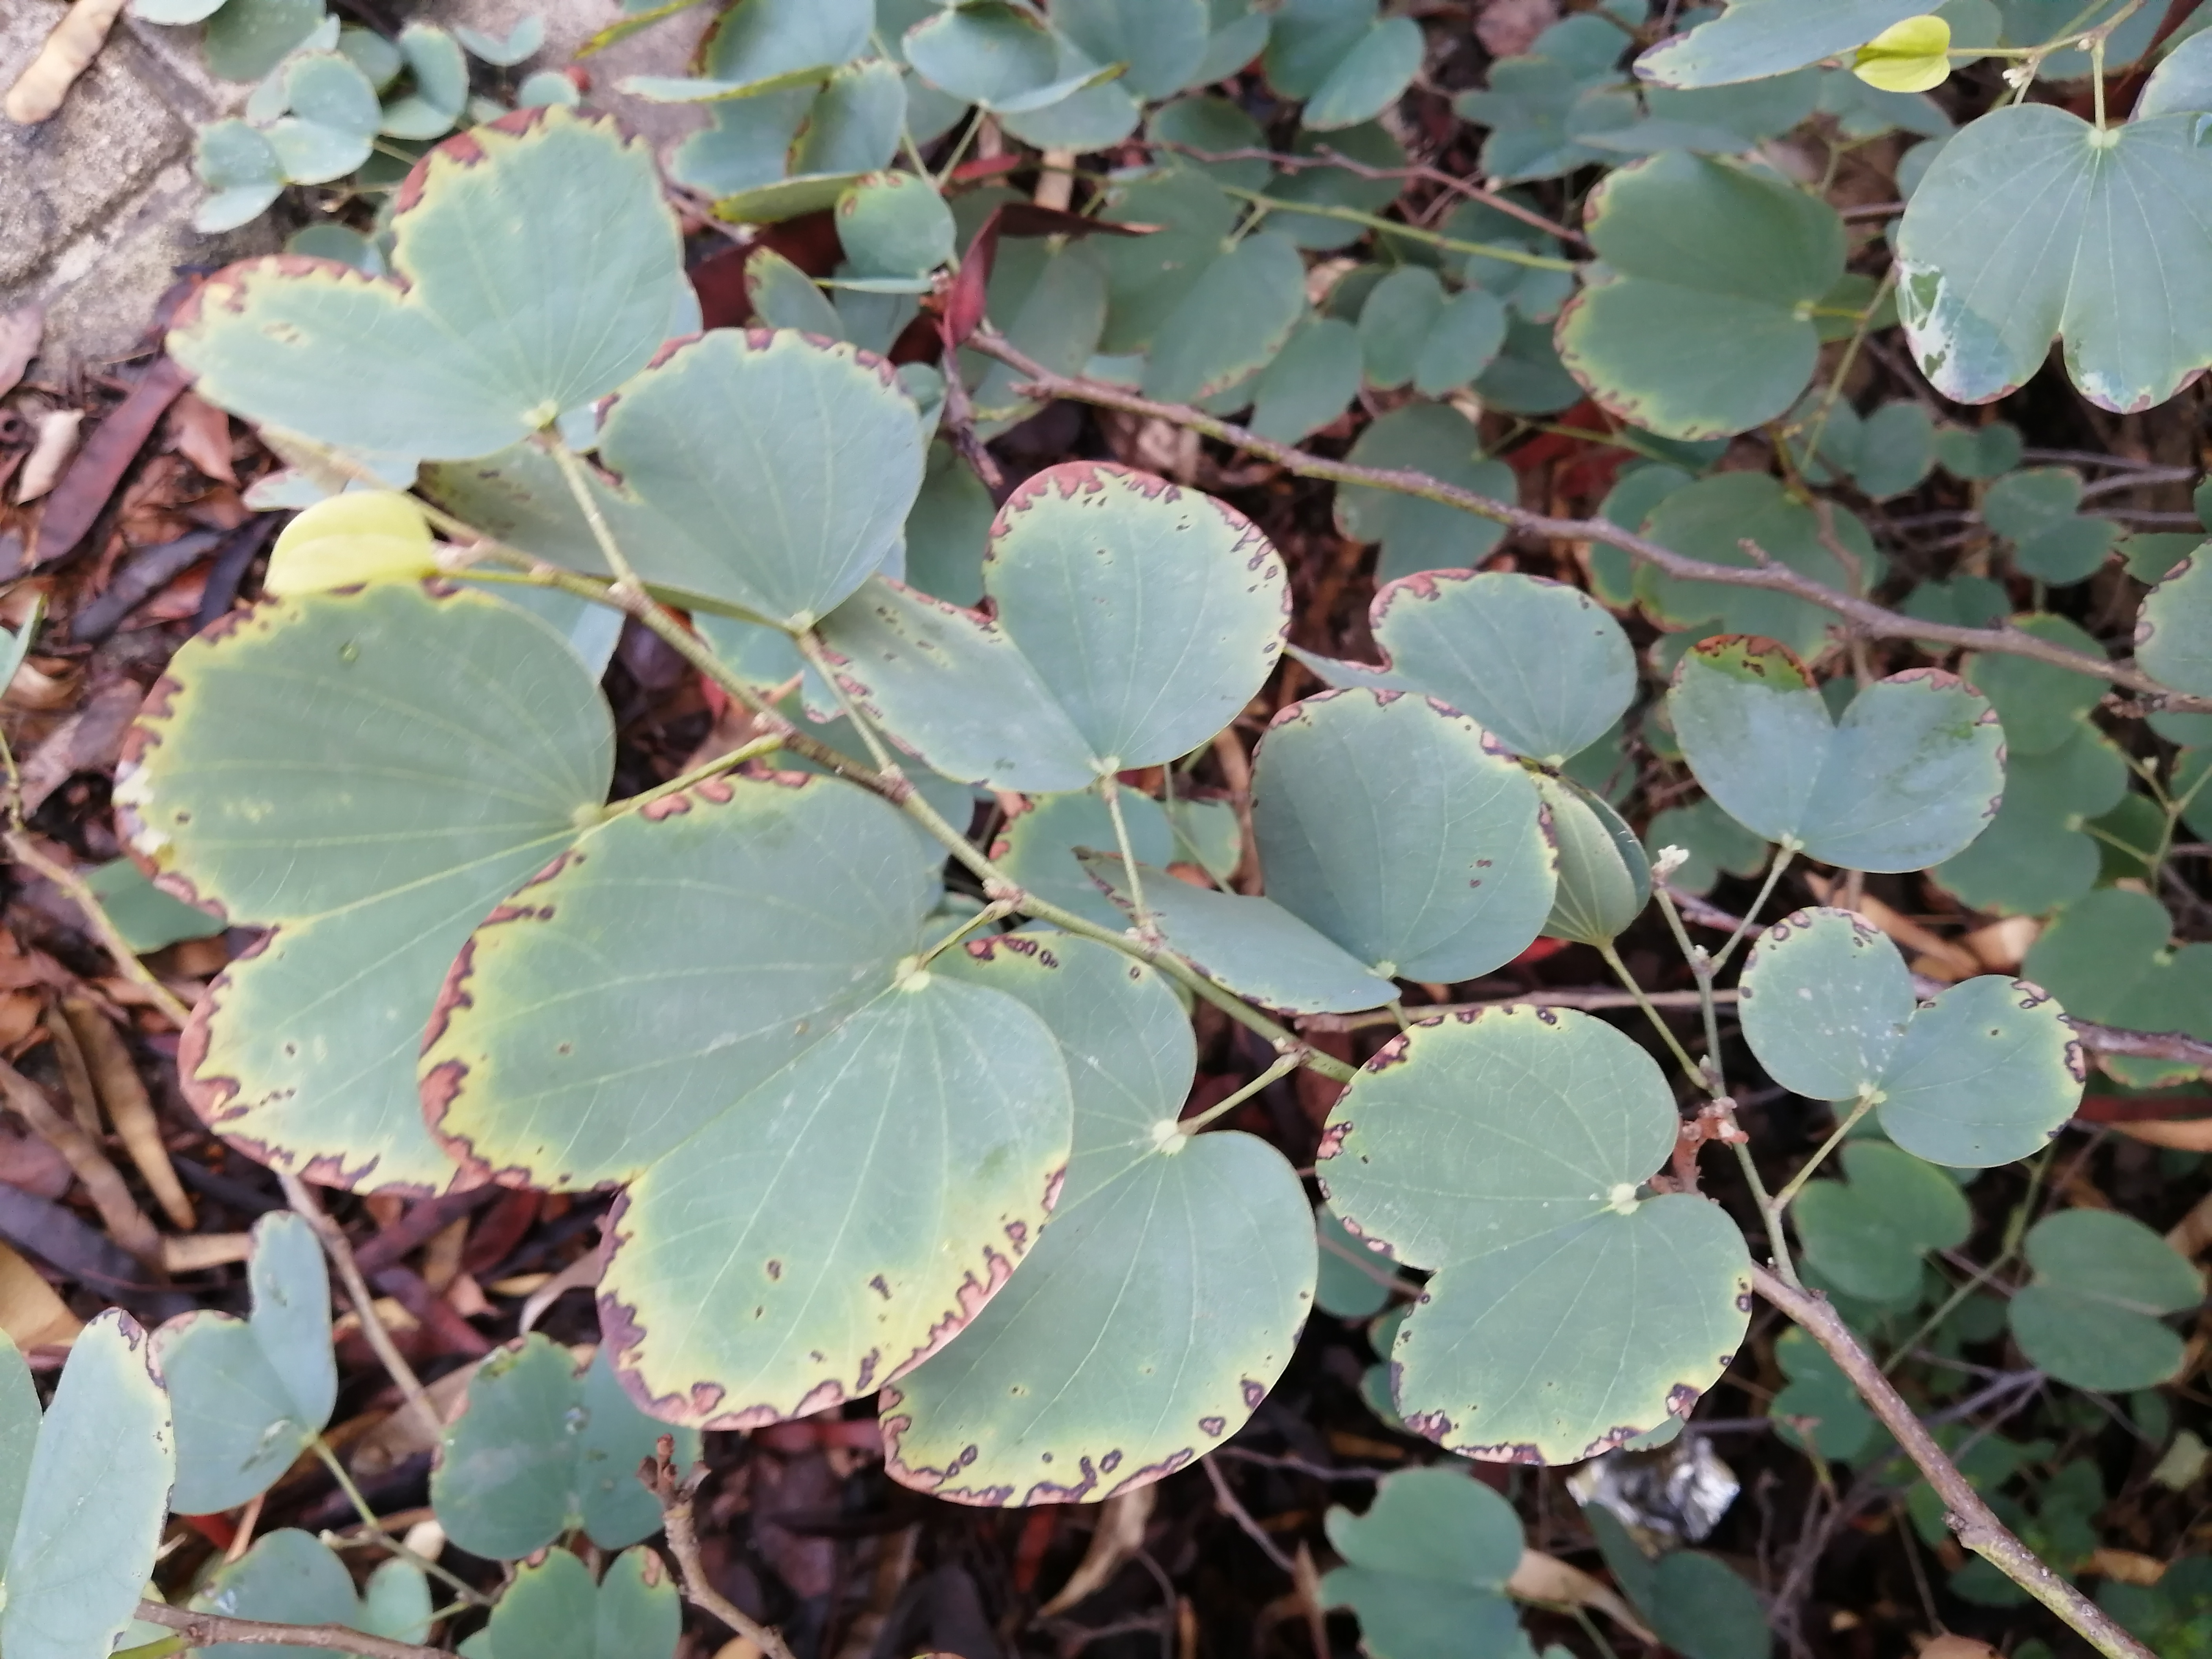nothealthy: (404, 793, 1073, 1448), (80, 582, 637, 1216), (843, 903, 1287, 1511), (1303, 986, 1726, 1476), (799, 441, 1341, 823), (129, 108, 690, 469), (416, 326, 941, 633), (1730, 882, 2095, 1192), (1653, 615, 2043, 887), (1524, 153, 1858, 448)
